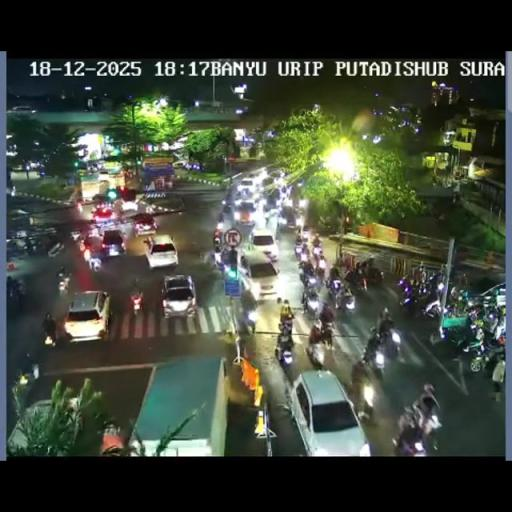Car: (126, 357, 224, 456), (288, 368, 370, 454), (63, 290, 111, 342), (160, 274, 197, 318), (464, 280, 505, 314), (245, 258, 278, 298), (143, 234, 178, 268), (250, 228, 278, 261), (100, 229, 127, 258), (234, 200, 256, 226), (132, 213, 158, 235), (238, 175, 262, 196), (118, 191, 140, 212), (92, 206, 115, 226), (258, 176, 276, 195), (6, 106, 36, 114), (172, 160, 189, 169), (98, 170, 110, 182)
Motorcycle: (393, 404, 440, 454), (462, 329, 504, 374), (365, 327, 402, 373), (326, 278, 356, 312), (414, 270, 443, 302), (274, 326, 296, 365), (14, 361, 40, 391), (398, 286, 422, 318), (476, 307, 502, 336), (356, 262, 384, 288), (442, 292, 468, 319), (305, 336, 324, 370), (491, 358, 504, 400), (350, 358, 368, 388), (302, 288, 320, 316), (236, 308, 254, 336), (6, 282, 22, 312), (42, 316, 58, 344), (130, 282, 144, 314), (320, 302, 334, 333), (424, 297, 442, 320), (23, 236, 43, 256), (453, 270, 468, 296), (220, 192, 234, 218), (279, 298, 293, 324), (237, 252, 250, 279), (58, 272, 71, 298), (212, 247, 226, 271), (311, 246, 325, 270), (377, 307, 390, 330), (264, 204, 280, 222), (296, 243, 310, 263), (88, 254, 102, 272), (328, 266, 342, 284), (86, 223, 101, 239), (298, 269, 310, 288), (290, 208, 302, 226), (212, 226, 222, 246), (277, 211, 288, 227), (256, 196, 266, 213), (77, 235, 86, 252), (300, 225, 310, 240), (311, 233, 321, 248), (83, 247, 91, 262), (294, 232, 302, 246), (218, 210, 224, 224)
